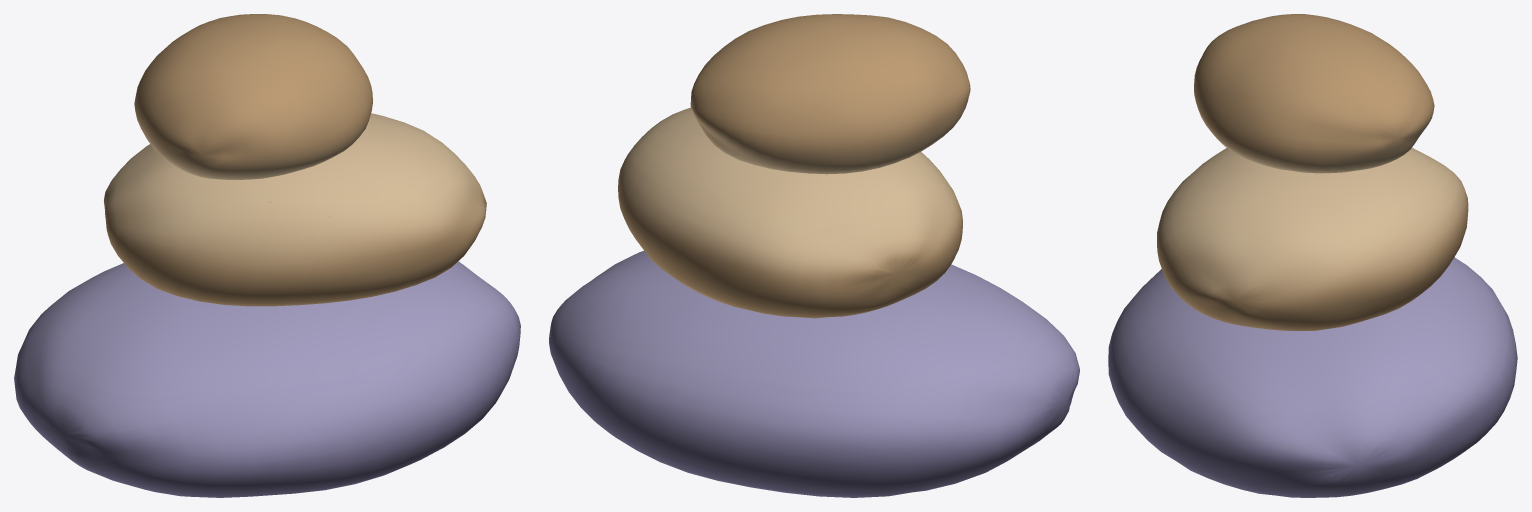
Rendered from rock_stack.glb.
3 renders of one model, left to right at view 1: azimuth 30°, elevation 25°; view 2: azimuth 150°, elevation 25°; view 3: azimuth 270°, elevation 25°, orthographic. The views are drawn at different scales.
Visible parts, largest first — view 1: RockStack; view 2: RockStack; view 3: RockStack.
Boxes of the visible parts, box(x1,y1,x2,y2) form: RockStack: box(14, 14, 520, 497); RockStack: box(549, 14, 1079, 497); RockStack: box(1108, 14, 1517, 497).
Size of the model in its own units: 1.08 by 0.8919 by 0.875.
Materials: 1 (1 with a texture image).
